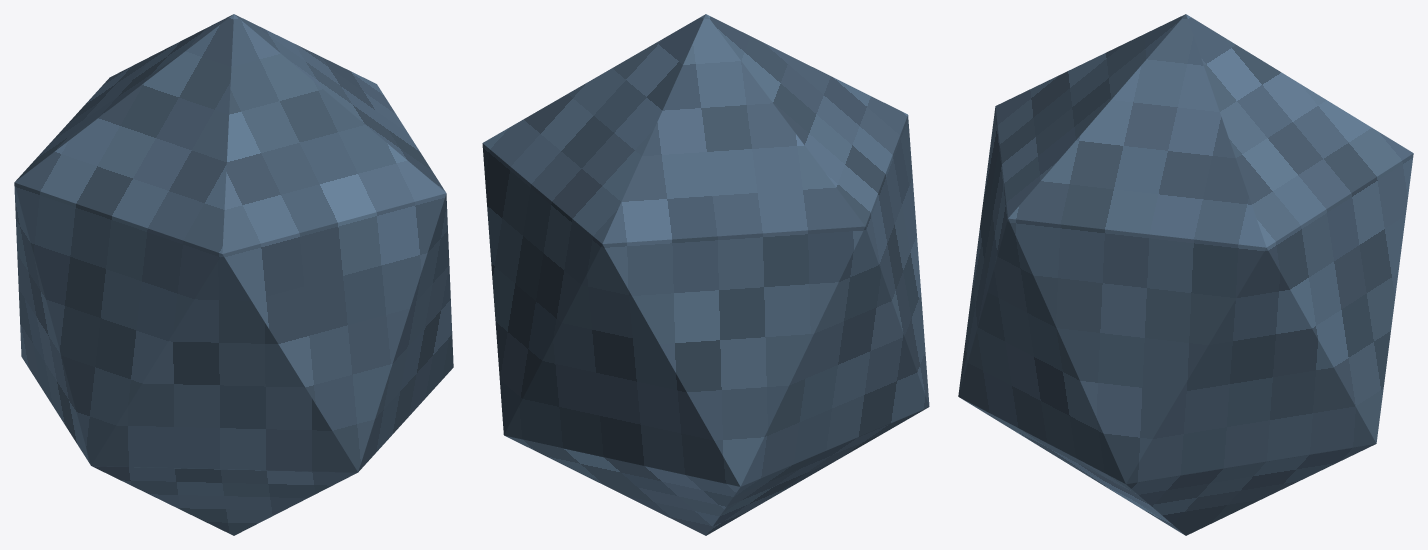
Rendered from rock_15.glb.
The picture shows the model from 3 angles, left to right: view 1: azimuth 30°, elevation 25°; view 2: azimuth 150°, elevation 25°; view 3: azimuth 270°, elevation 25°; orthographic projection.
Parts seen in each view (by area): view 1: WeatheredStone; view 2: WeatheredStone; view 3: WeatheredStone.
Part boxes in pixels (<box>): WeatheredStone: <box>14,14,453,535</box>; WeatheredStone: <box>482,14,929,535</box>; WeatheredStone: <box>958,14,1413,535</box>.
Size of the model in its own units: 1.42 by 1.86 by 1.47.
1 material, 1 textured.
